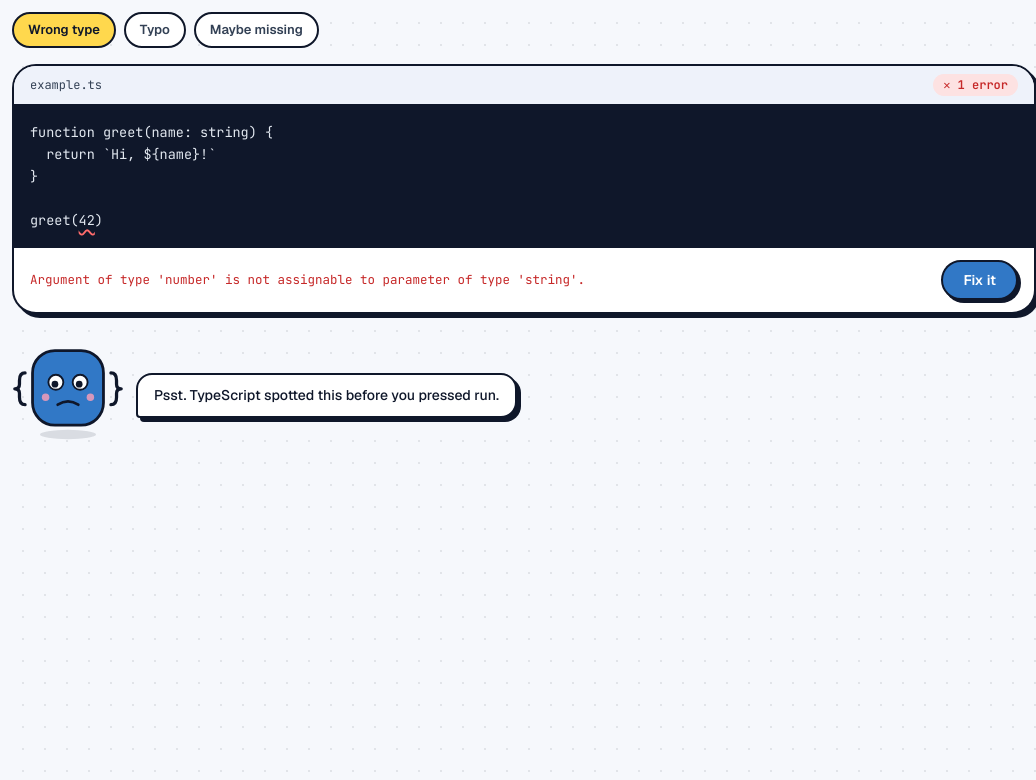
Test: TypeToy › switches examples and starts them broken
What coordinates should you click on to do the following:
click the button "Fix it"
I would click on:
 (980, 280)
Its box is [941, 260, 1018, 300].
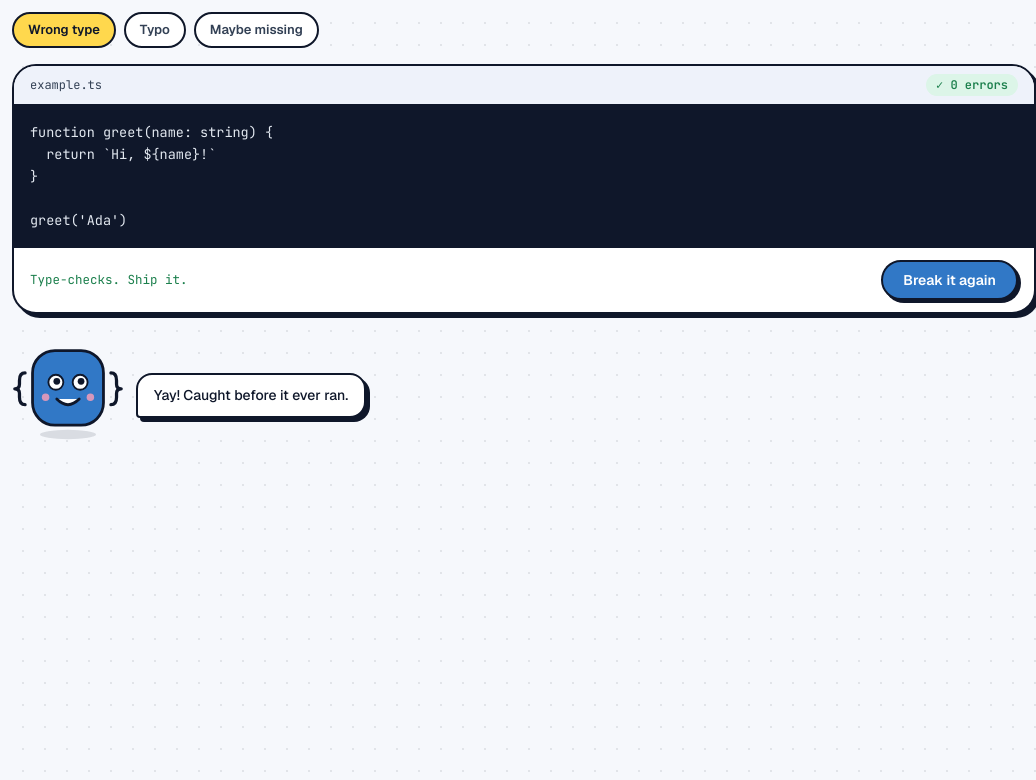
What coordinates should you click on to do the following:
click the tab "Typo"
I would click on:
 (155, 30)
Its box is [124, 12, 186, 48].
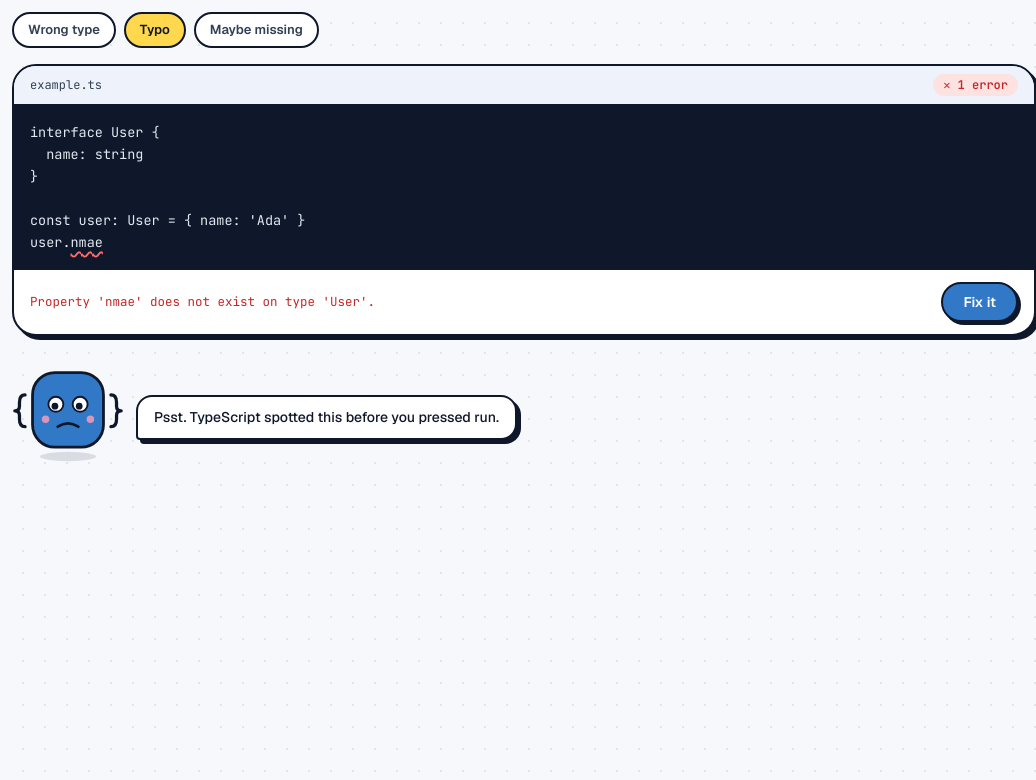
Now the text "Property 'nmae' does not exist on type 'User'." is shown, box [30, 293, 375, 310]
Now the text with test id "squiggle" reads "nmae", box [70, 233, 103, 251]
